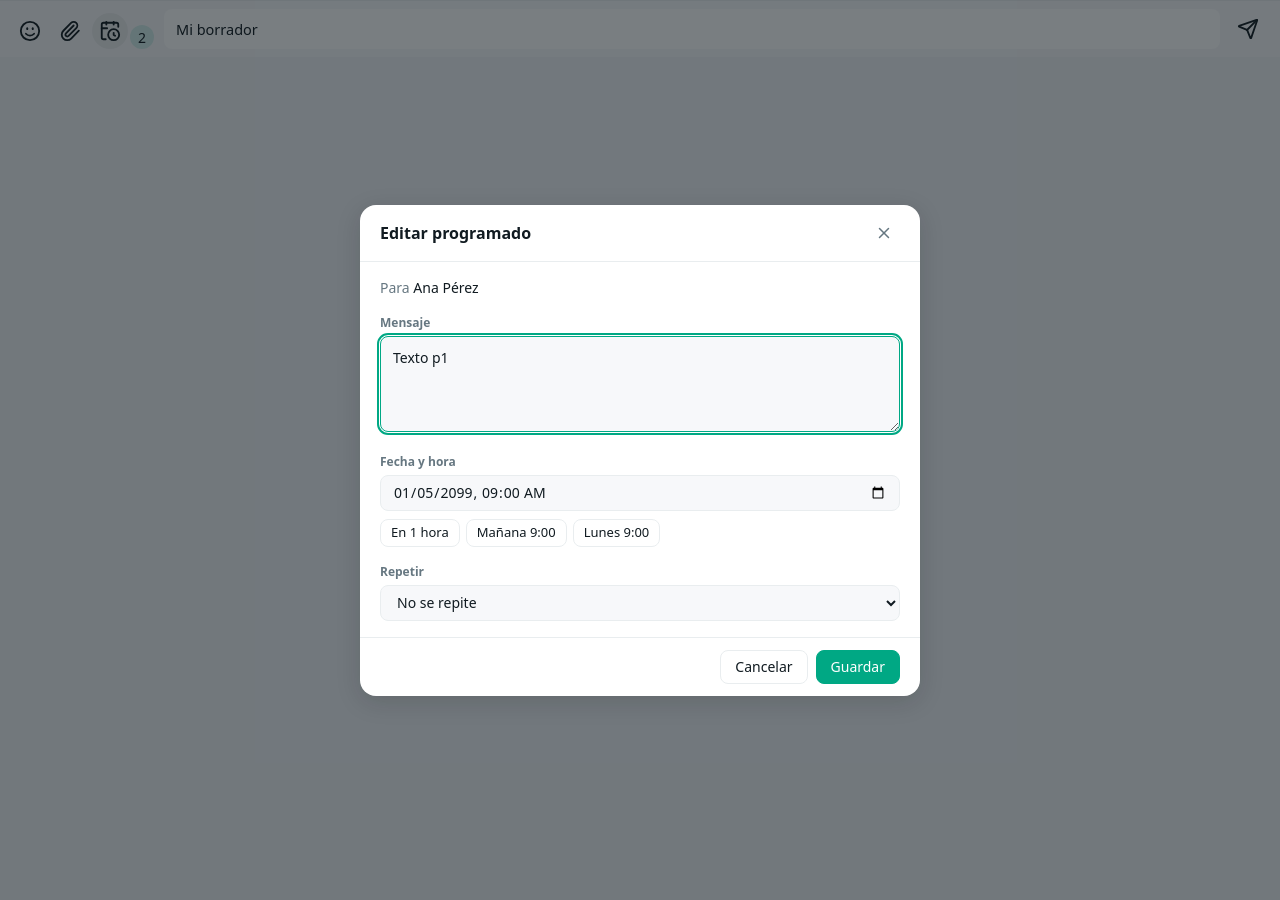
Test: insignia y panel de programados del chat › editar desde el panel abre el diálogo con los datos y guarda con Update; el compositor no se toca
Earlier steps of the test are not shown.
Replace the text in the text box labelled "Mensaje" with "Editado" at (640, 384), box [380,336,900,432]
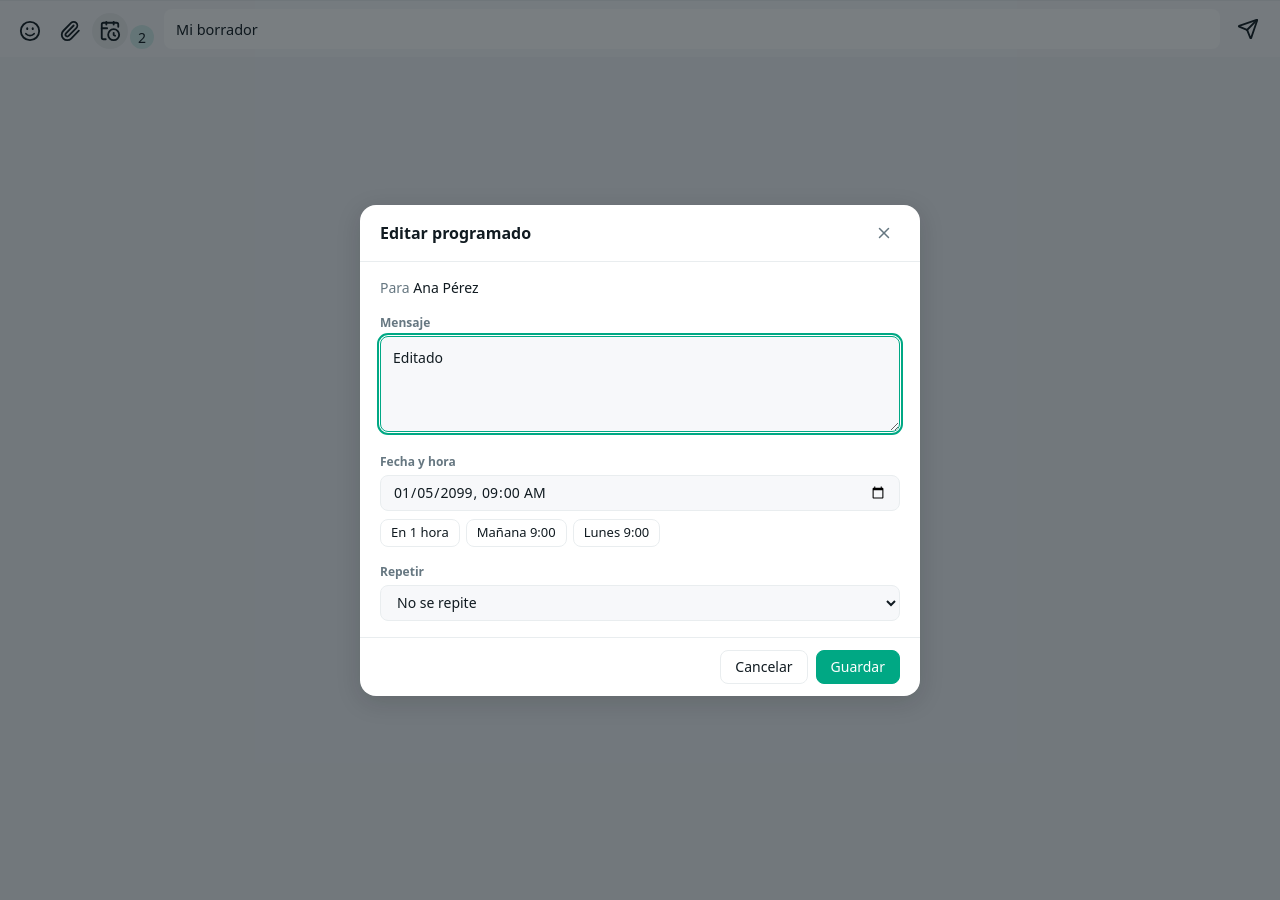
Click the button "Guardar" at (858, 666), box [816,650,900,684]
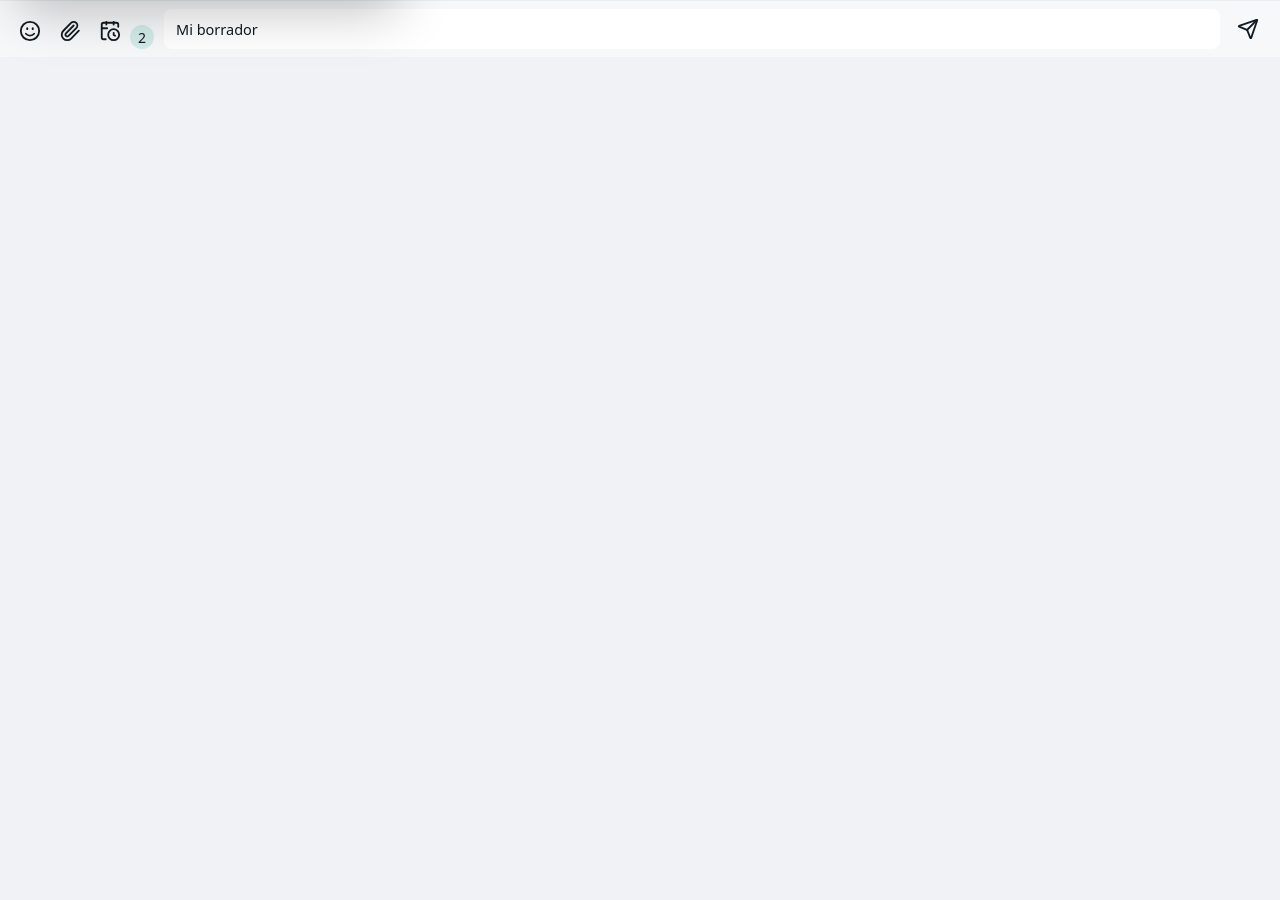
expect the heading "Editar programado" is gone: met
